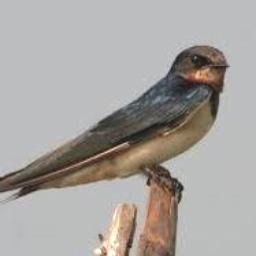Swallow: (0, 47, 229, 201)
